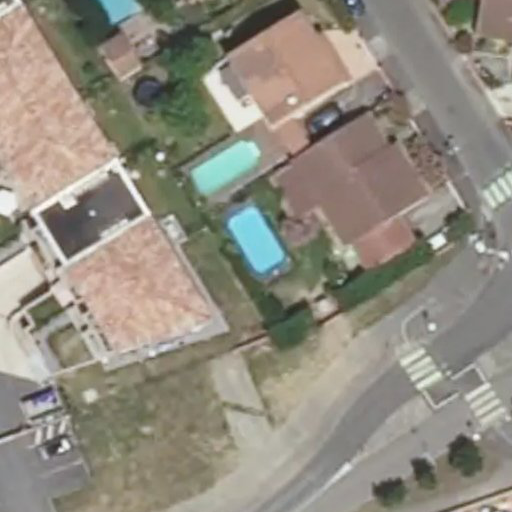pool: (227, 223, 284, 260)
